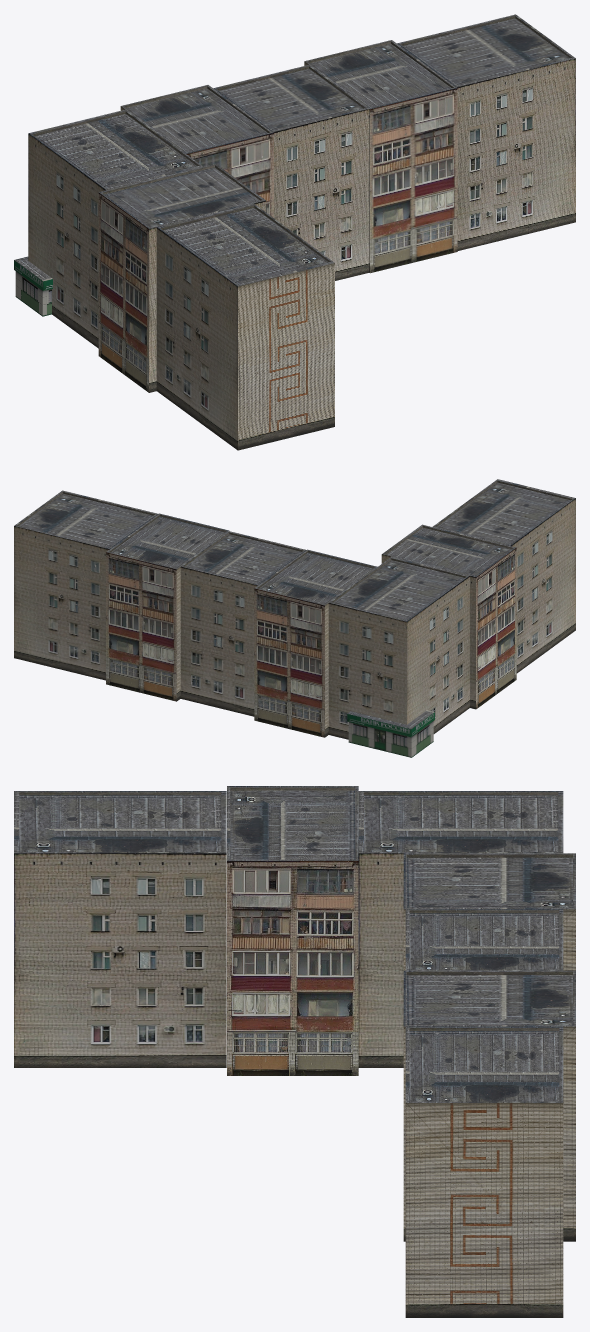
The model's file is r402_ishim_dom13.FBX.
3 renders of one model, top to bottom at view 1: azimuth 30°, elevation 25°; view 2: azimuth 150°, elevation 25°; view 3: azimuth 270°, elevation 25°, orthographic. The views are drawn at different scales.
Visible parts, largest first — view 1: Box009, Box008, Box007, Box006, Box001, Box002, Box003, Box004, Box005; view 2: Box001, Box008, Box006, Box003, Box007, Box009, Box002, Box004, Box005; view 3: Box009, Box008, Box002, Box001, Box007, Box003, Box006.
Boxes of the visible parts, x1=… form: Box009: x1=156, y1=203, x2=334, y2=450; Box008: x1=397, y1=14, x2=575, y2=250; Box007: x1=304, y1=40, x2=457, y2=273; Box006: x1=213, y1=65, x2=369, y2=280; Box001: x1=28, y1=109, x2=202, y2=348; Box002: x1=98, y1=163, x2=265, y2=392; Box003: x1=120, y1=85, x2=273, y2=217; Box004: x1=15, y1=271, x2=51, y2=316; Box005: x1=14, y1=256, x2=52, y2=291; Box001: x1=328, y1=556, x2=469, y2=739; Box008: x1=14, y1=490, x2=157, y2=680; Box006: x1=180, y1=531, x2=305, y2=716; Box003: x1=254, y1=549, x2=377, y2=737; Box007: x1=106, y1=513, x2=229, y2=701; Box009: x1=432, y1=479, x2=575, y2=673; Box002: x1=381, y1=524, x2=516, y2=709; Box004: x1=348, y1=721, x2=433, y2=757; Box005: x1=347, y1=710, x2=434, y2=737; Box009: x1=14, y1=791, x2=226, y2=1067; Box008: x1=405, y1=1026, x2=563, y2=1317; Box002: x1=227, y1=786, x2=358, y2=1075; Box001: x1=358, y1=791, x2=563, y2=1067; Box007: x1=403, y1=970, x2=575, y2=1241; Box003: x1=403, y1=853, x2=575, y2=970; Box006: x1=405, y1=909, x2=563, y2=970.
Size of the model in its own units: 47.61 by 35.54 by 15.
